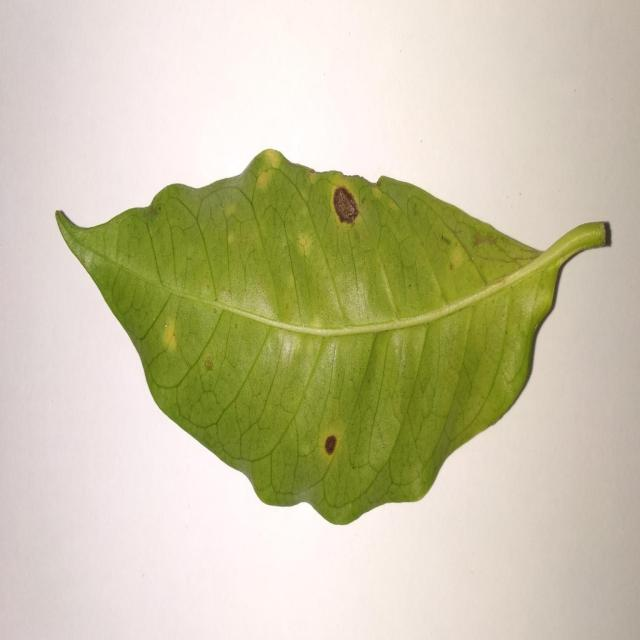Enfermedad-Mancha-de-hierro: (54, 150, 613, 529)
